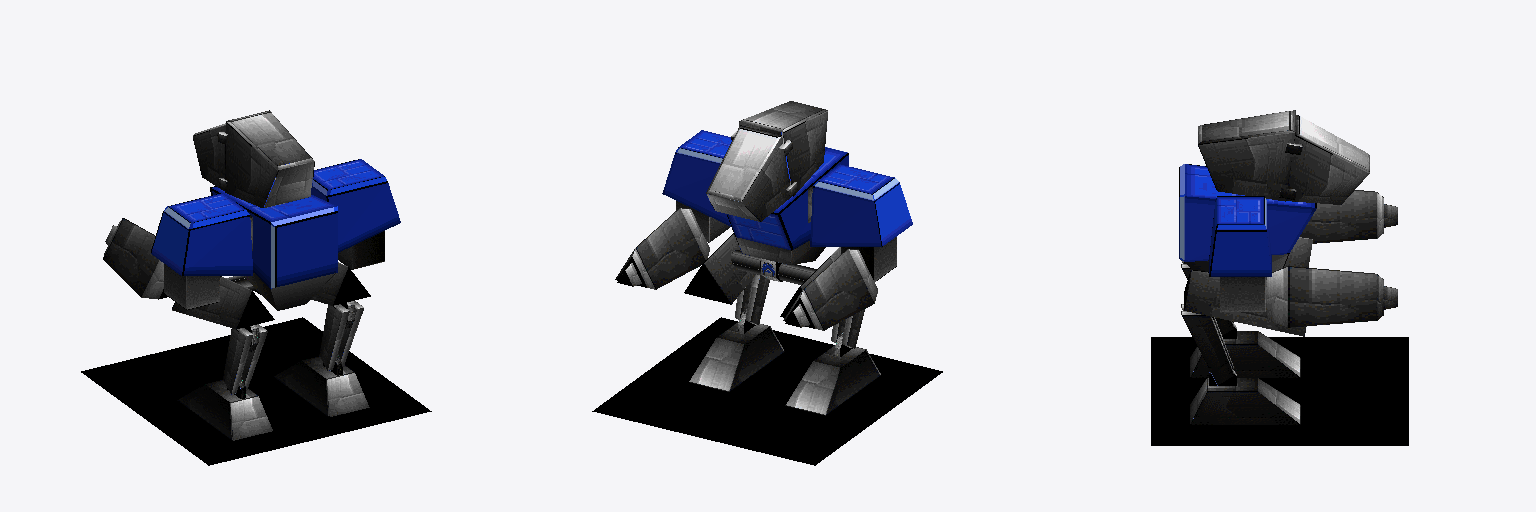
3 renders of one model, left to right at view 1: azimuth 30°, elevation 25°; view 2: azimuth 150°, elevation 25°; view 3: azimuth 270°, elevation 25°, orthographic.
Bounding box in the file's own units: 22.5 × 26.15 × 22.5.
1 materials, 1 textured.